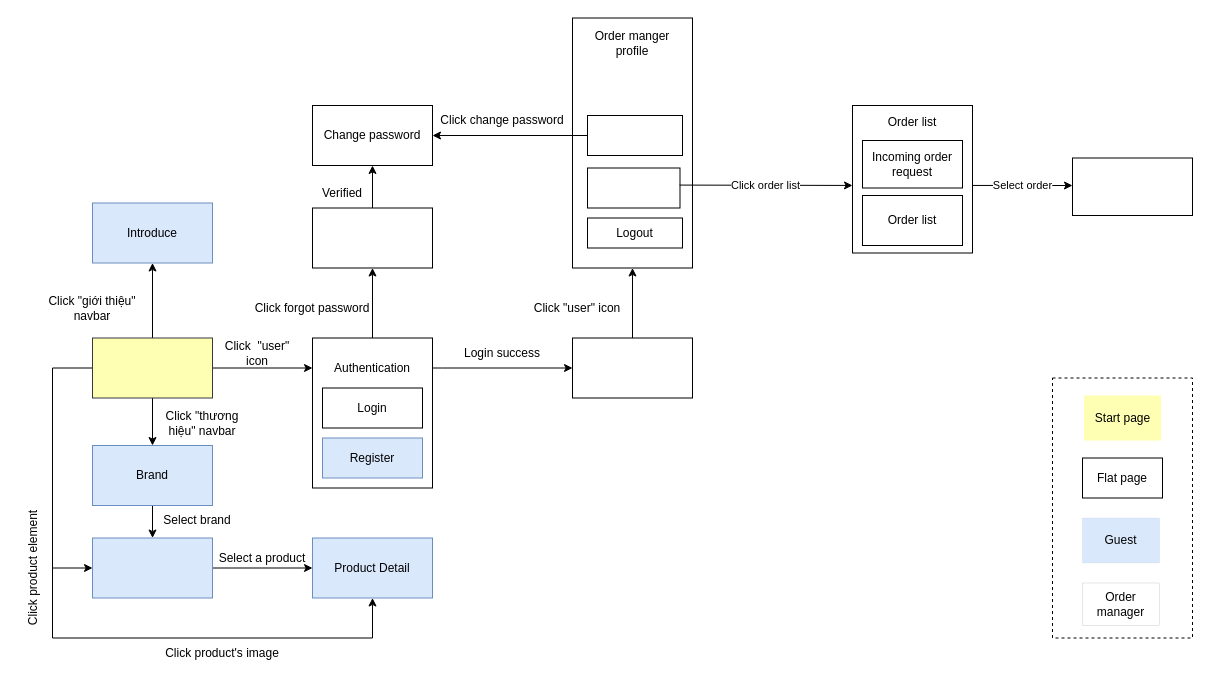
Image size: 1210x685. Some labels were removed from this diagram. The shapes that lost their labels are listed below. From the top down, each one's box as (x1, y1, x2, y2) in pixels, then its label:
(586, 114, 682, 156): Account
(586, 167, 680, 208): Management
(1072, 157, 1192, 216): Order detail
(312, 207, 432, 268): Forgot password
(92, 337, 212, 398): Home Page
(572, 337, 692, 398): Post Login
(92, 537, 212, 598): Product
